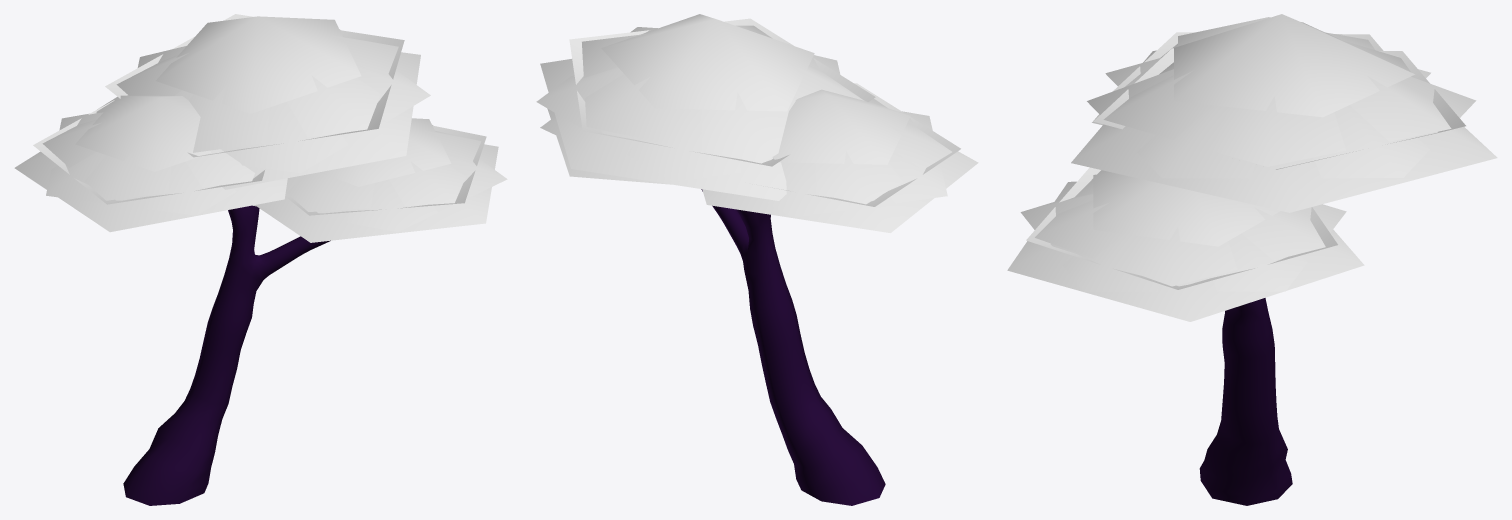
Rendered from Tree02 - Copy.fbx.
3 renders of one model, left to right at view 1: azimuth 30°, elevation 25°; view 2: azimuth 150°, elevation 25°; view 3: azimuth 270°, elevation 25°, orthographic. The views are drawn at different scales.
Parts seen in each view (by area): view 1: Plane.177, Circle.445, Circle.446, Circle.440, Circle.447, Circle.436, Circle.441, Circle.443, Circle.438, Circle.448, Circle.442, Circle.437 (+4 smaller); view 2: Plane.177, Circle.445, Circle.446, Circle.440, Circle.448, Circle.447, Circle.441, Circle.443, Circle.442, Circle.449, Circle.444, Circle.438; view 3: Circle.445, Circle.446, Plane.177, Circle.448, Circle.447, Circle.436, Circle.435, Circle.437, Circle.438, Circle.439, Circle.449, Circle.444 (+2 smaller).
Part boxes in pixels (left/top/right/bottom): Plane.177: left=123, top=205, right=330, bottom=505; Circle.445: left=156, top=16, right=361, bottom=113; Circle.446: left=116, top=35, right=398, bottom=152; Circle.440: left=75, top=95, right=221, bottom=171; Circle.447: left=137, top=29, right=430, bottom=173; Circle.436: left=287, top=130, right=481, bottom=211; Circle.441: left=42, top=119, right=254, bottom=200; Circle.443: left=14, top=151, right=287, bottom=232; Circle.438: left=257, top=144, right=498, bottom=242; Circle.448: left=96, top=52, right=420, bottom=189; Circle.442: left=46, top=112, right=235, bottom=215; Circle.437: left=253, top=125, right=507, bottom=231; Plane.177: left=701, top=189, right=885, bottom=505; Circle.445: left=601, top=14, right=814, bottom=111; Circle.446: left=582, top=25, right=863, bottom=163; Circle.440: left=772, top=89, right=910, bottom=164; Circle.448: left=540, top=59, right=786, bottom=200; Circle.447: left=536, top=27, right=840, bottom=181; Circle.441: left=781, top=98, right=951, bottom=204; Circle.443: left=702, top=151, right=978, bottom=232; Circle.442: left=759, top=111, right=947, bottom=217; Circle.449: left=569, top=18, right=875, bottom=166; Circle.444: left=752, top=83, right=960, bottom=206; Circle.438: left=547, top=108, right=671, bottom=184; Circle.445: left=1174, top=14, right=1414, bottom=117; Circle.446: left=1103, top=40, right=1451, bottom=166; Plane.177: left=1199, top=298, right=1292, bottom=505; Circle.448: left=1071, top=124, right=1497, bottom=212; Circle.447: left=1087, top=69, right=1476, bottom=178; Circle.436: left=1035, top=170, right=1325, bottom=286; Circle.435: left=1093, top=172, right=1279, bottom=246; Circle.437: left=1020, top=194, right=1346, bottom=291; Circle.438: left=1007, top=181, right=1364, bottom=321; Circle.439: left=1026, top=167, right=1337, bottom=289; Circle.449: left=1093, top=48, right=1465, bottom=169; Circle.444: left=1113, top=32, right=1383, bottom=91.
Size of the model in its own units: 19.04 by 18.83 by 15.7.
